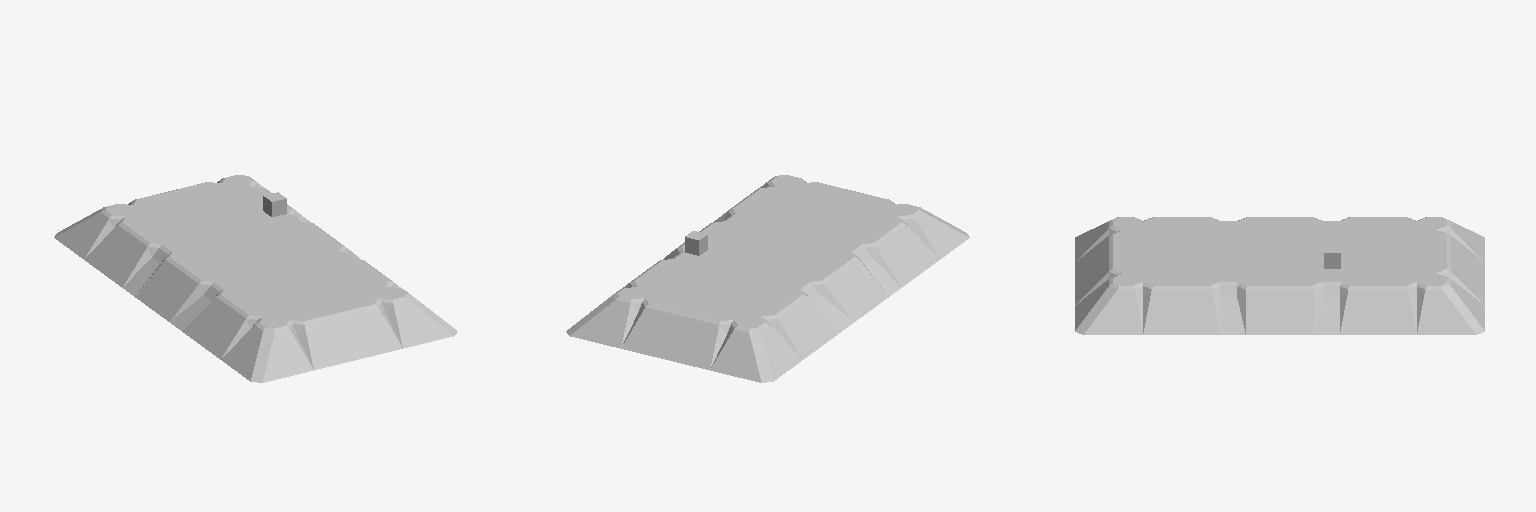
The model's file is landing_pad.obj.
The picture shows the model from 3 angles: view 1: azimuth 30°, elevation 25°; view 2: azimuth 150°, elevation 25°; view 3: azimuth 270°, elevation 25°; orthographic projection.
Parts seen in each view (by area): view 1: Plane; view 2: Plane; view 3: Plane.
Part boxes in pixels (x1,y1,x2,y2): Plane: (54,175,457,382); Plane: (566,175,969,382); Plane: (1075,217,1484,334).
Size of the model in its own units: 28 by 7.37 by 48.